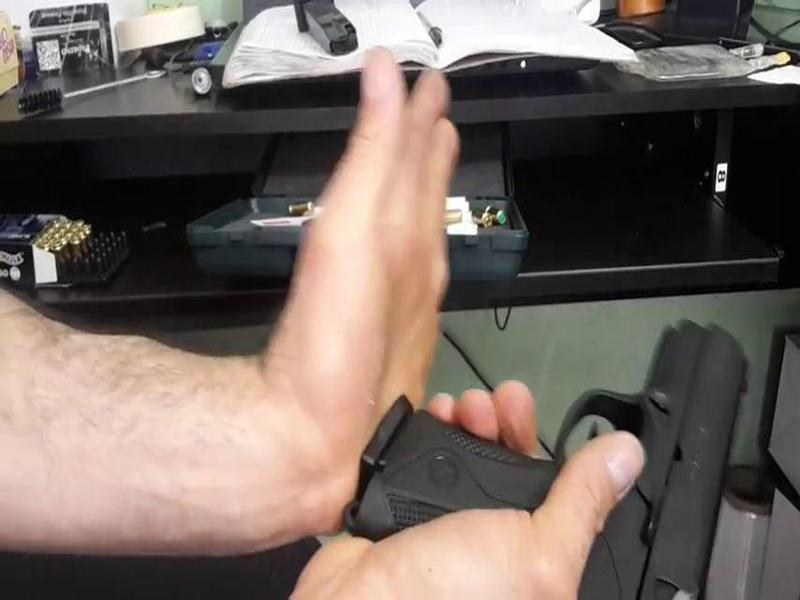Pistola: (393, 296, 756, 600)
